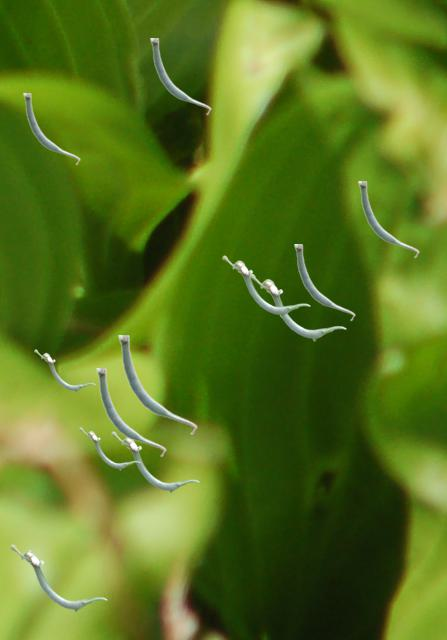french_bean: (118, 335, 196, 434), (10, 544, 106, 611), (250, 273, 345, 340), (96, 368, 165, 456), (111, 431, 198, 492), (222, 255, 309, 316), (358, 181, 418, 257), (294, 244, 354, 320), (150, 38, 210, 114), (23, 93, 79, 164), (34, 349, 94, 391), (79, 427, 139, 469)
